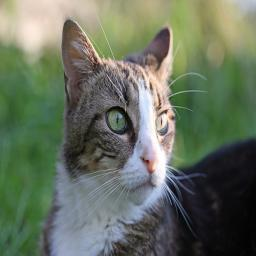catnose: (141, 152, 162, 176)
